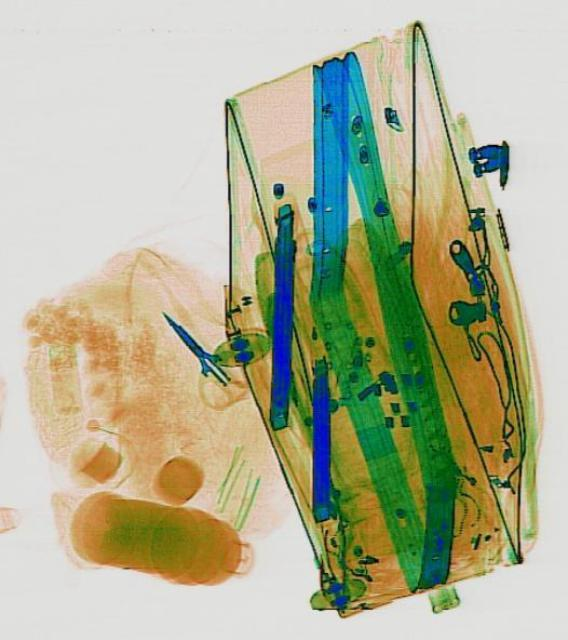Knife: (150, 301, 234, 391)
